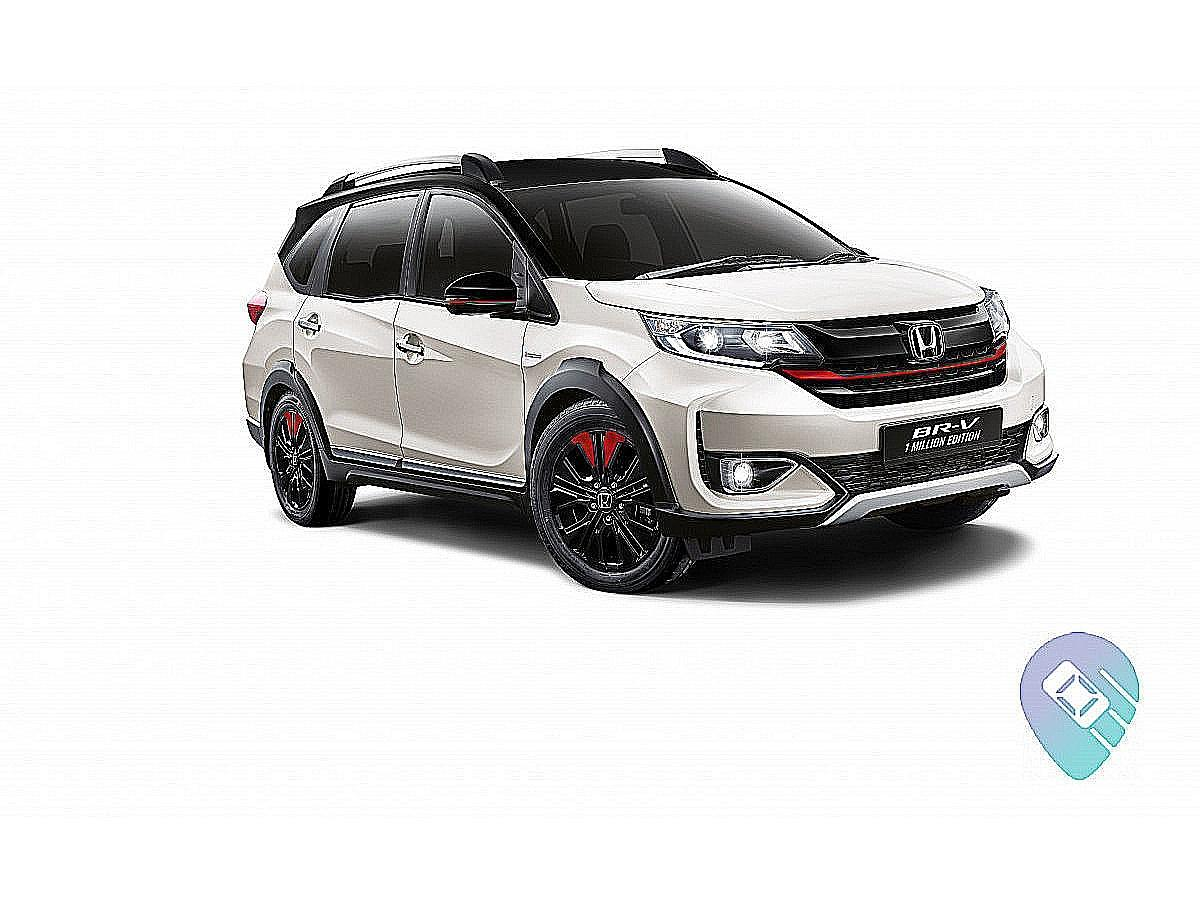Car hood: (554, 252, 987, 329)
Driver-s door - -F-R-: (385, 149, 539, 516)
Fender - -F-R-: (520, 282, 657, 443)
Fender - -R-R-: (237, 237, 316, 429)
Front bumper: (607, 343, 1061, 546)
Headlight - -L-: (970, 283, 1018, 353)
Headlight - -R-: (639, 313, 822, 373)
Passenger-s door - -R-R-: (291, 142, 419, 522)
Rear bumper: (230, 386, 276, 460)
Rear light - -R-: (248, 286, 267, 328)
Side bumper - -R-: (309, 434, 535, 525)
Side mirror - -R-: (436, 267, 555, 323)
